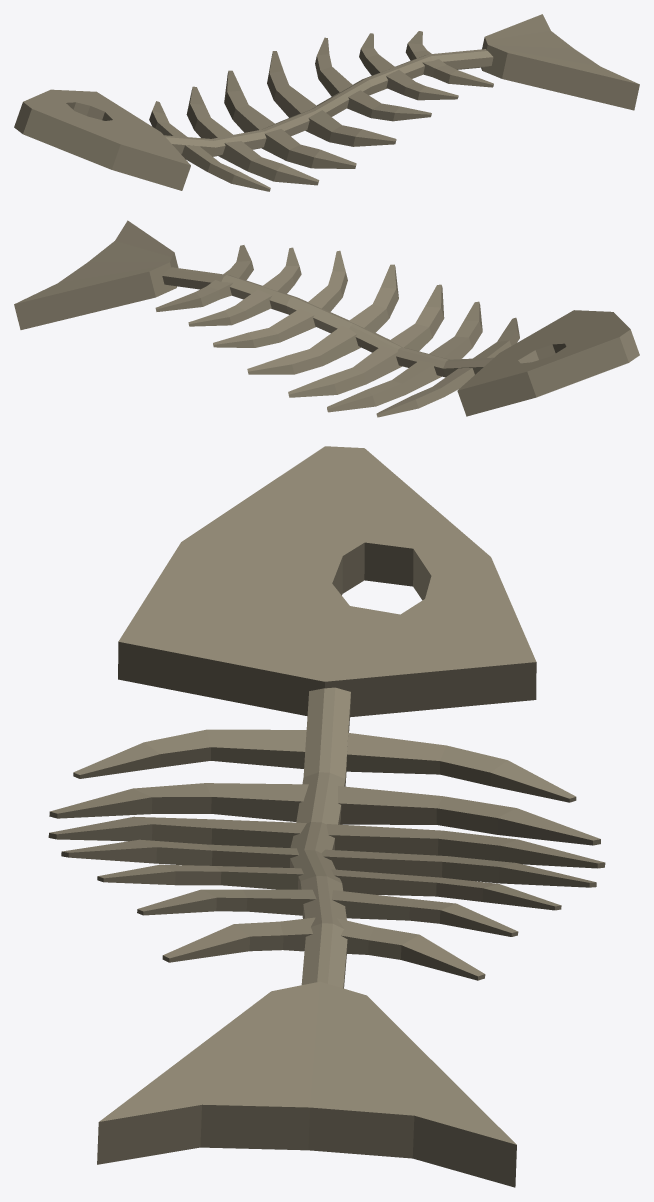
File: FishBone.glb
The picture shows the model from 3 angles, top to bottom: view 1: azimuth 30°, elevation 25°; view 2: azimuth 150°, elevation 25°; view 3: azimuth 270°, elevation 25°; orthographic projection. The views are drawn at different scales.
Visible parts, largest first — view 1: FishBone_Cube.046; view 2: FishBone_Cube.046; view 3: FishBone_Cube.046.
Part boxes in pixels (left/top/right/bottom): FishBone_Cube.046: left=14, top=14, right=639, bottom=191; FishBone_Cube.046: left=14, top=220, right=639, bottom=417; FishBone_Cube.046: left=48, top=446, right=605, bottom=1187.
Bounding box in the file's own units: 0.9219 × 0.1568 × 0.3912.
